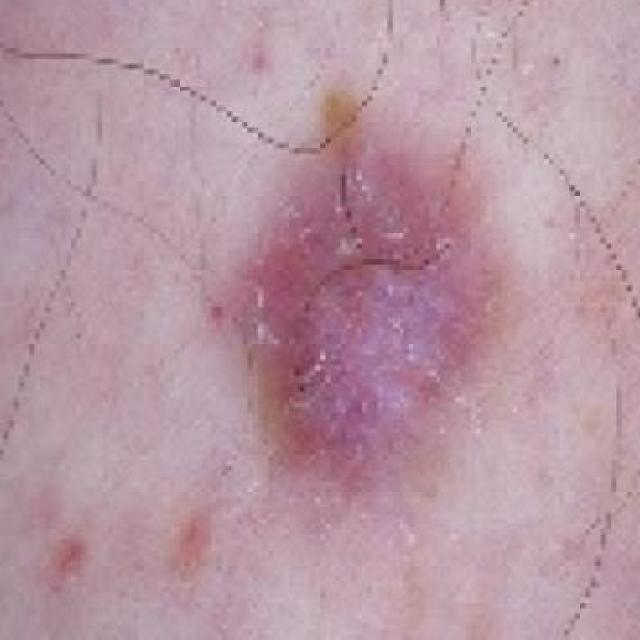DF: (152, 81, 640, 560)
